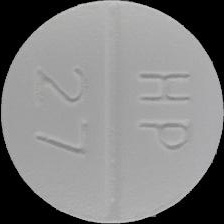52125-980: (0, 0, 224, 224)
